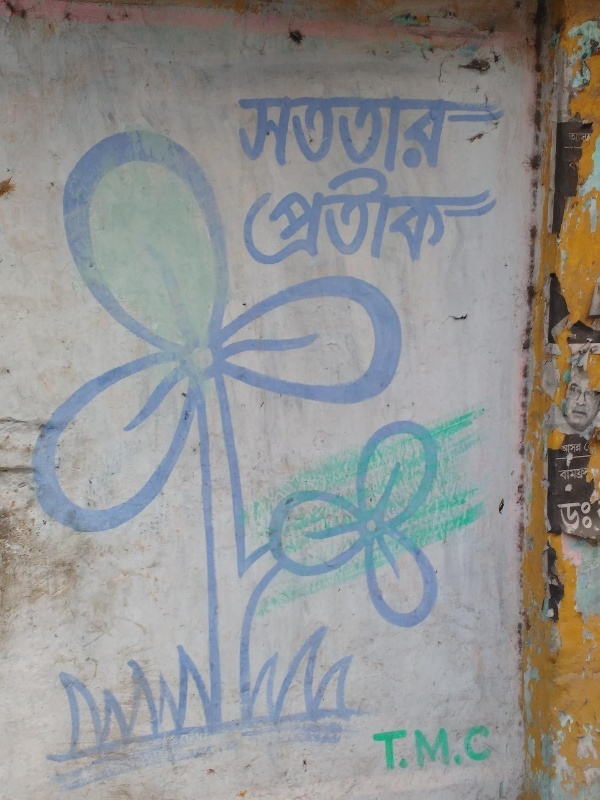text: (481, 161, 497, 274), (241, 161, 256, 274), (257, 161, 272, 274), (273, 161, 288, 274), (289, 161, 304, 274), (305, 161, 320, 274), (321, 161, 336, 274), (337, 161, 352, 274), (353, 161, 368, 274), (369, 161, 384, 274), (385, 161, 400, 274), (401, 161, 416, 274), (417, 161, 432, 274), (433, 161, 448, 274), (449, 161, 464, 274), (465, 161, 480, 274), (241, 96, 256, 181), (257, 96, 272, 181), (273, 96, 288, 181), (289, 96, 304, 181), (305, 96, 320, 181), (321, 96, 336, 181), (337, 96, 352, 181), (353, 96, 368, 181), (369, 96, 384, 181), (385, 96, 400, 181), (401, 96, 416, 181), (417, 96, 432, 181), (433, 96, 448, 181), (449, 96, 464, 181), (465, 96, 480, 181), (481, 96, 496, 181), (497, 96, 508, 181), (385, 722, 400, 771), (401, 722, 416, 771), (417, 722, 432, 771), (433, 722, 448, 771), (449, 722, 464, 771), (465, 722, 480, 771), (481, 722, 494, 771), (577, 499, 593, 537), (372, 722, 384, 771), (561, 499, 576, 537), (235, 161, 240, 274), (235, 96, 240, 181), (562, 442, 576, 463), (577, 442, 587, 463), (561, 468, 576, 481), (577, 468, 592, 481), (577, 130, 592, 143), (567, 158, 576, 171), (557, 499, 560, 537), (568, 130, 576, 143), (558, 468, 560, 481), (577, 158, 579, 171)
